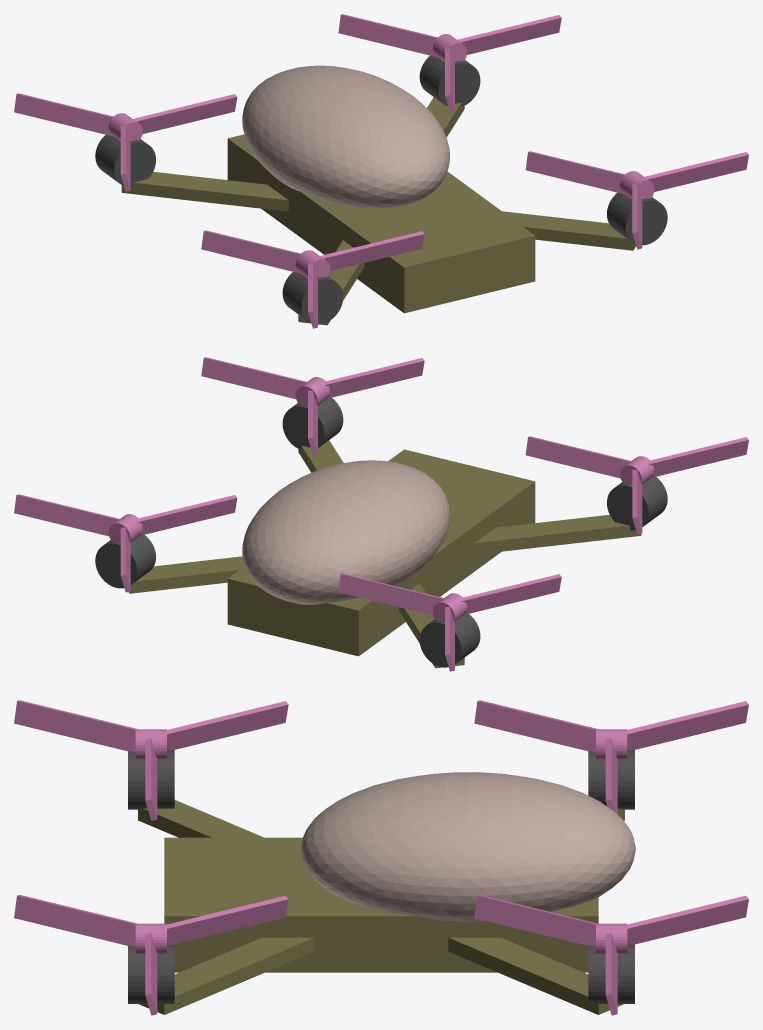
Rendered from Carolina XC.glb.
3 views of the same model, one above another, from view 1: azimuth 30°, elevation 25°; view 2: azimuth 150°, elevation 25°; view 3: azimuth 270°, elevation 25° (orthographic). The views are drawn at different scales.
Parts seen in each view (by area): view 1: canopy, frame_body, prop_3, prop_0, prop_1, prop_2, arm_3, arm_0, motor_0, motor_2, motor_3, motor_1 (+2 smaller); view 2: canopy, frame_body, prop_2, prop_1, prop_0, prop_3, arm_2, arm_1, motor_1, motor_3, motor_2, motor_0 (+2 smaller); view 3: canopy, frame_body, prop_0, prop_1, prop_2, prop_3, arm_1, arm_0, arm_2, motor_2, motor_1, motor_0 (+1 smaller).
Boxes of the visible parts, x1=… form: canopy: x1=242, y1=65, x2=449, y2=208; frame_body: x1=227, y1=134, x2=535, y2=313; prop_3: x1=14, y1=93, x2=237, y2=191; prop_0: x1=525, y1=151, x2=748, y2=249; prop_1: x1=338, y1=14, x2=561, y2=112; prop_2: x1=201, y1=230, x2=424, y2=328; arm_3: x1=121, y1=171, x2=288, y2=211; arm_0: x1=502, y1=211, x2=635, y2=250; motor_0: x1=607, y1=192, x2=667, y2=245; motor_2: x1=282, y1=272, x2=343, y2=324; motor_3: x1=95, y1=135, x2=155, y2=187; motor_1: x1=419, y1=55, x2=480, y2=106; canopy: x1=242, y1=460, x2=449, y2=604; frame_body: x1=227, y1=449, x2=535, y2=656; prop_2: x1=525, y1=436, x2=748, y2=534; prop_1: x1=14, y1=494, x2=237, y2=592; prop_0: x1=201, y1=357, x2=424, y2=455; prop_3: x1=338, y1=573, x2=561, y2=671; arm_2: x1=474, y1=514, x2=641, y2=554; arm_1: x1=128, y1=556, x2=244, y2=593; motor_1: x1=95, y1=534, x2=155, y2=588; motor_3: x1=419, y1=614, x2=480, y2=667; motor_2: x1=607, y1=477, x2=667, y2=530; motor_0: x1=282, y1=397, x2=343, y2=449; canopy: x1=301, y1=772, x2=635, y2=921; frame_body: x1=164, y1=837, x2=598, y2=972; prop_0: x1=14, y1=895, x2=288, y2=1015; prop_1: x1=474, y1=895, x2=748, y2=1015; prop_2: x1=14, y1=700, x2=288, y2=820; prop_3: x1=474, y1=700, x2=748, y2=813; arm_1: x1=448, y1=937, x2=623, y2=1014; arm_0: x1=139, y1=937, x2=314, y2=1014; arm_2: x1=138, y1=800, x2=263, y2=837; motor_2: x1=128, y1=750, x2=174, y2=809; motor_1: x1=588, y1=944, x2=634, y2=1003; motor_0: x1=128, y1=944, x2=174, y2=1003.
Bounding box in the file's own units: 0.2251 × 0.0516 × 0.2369.
